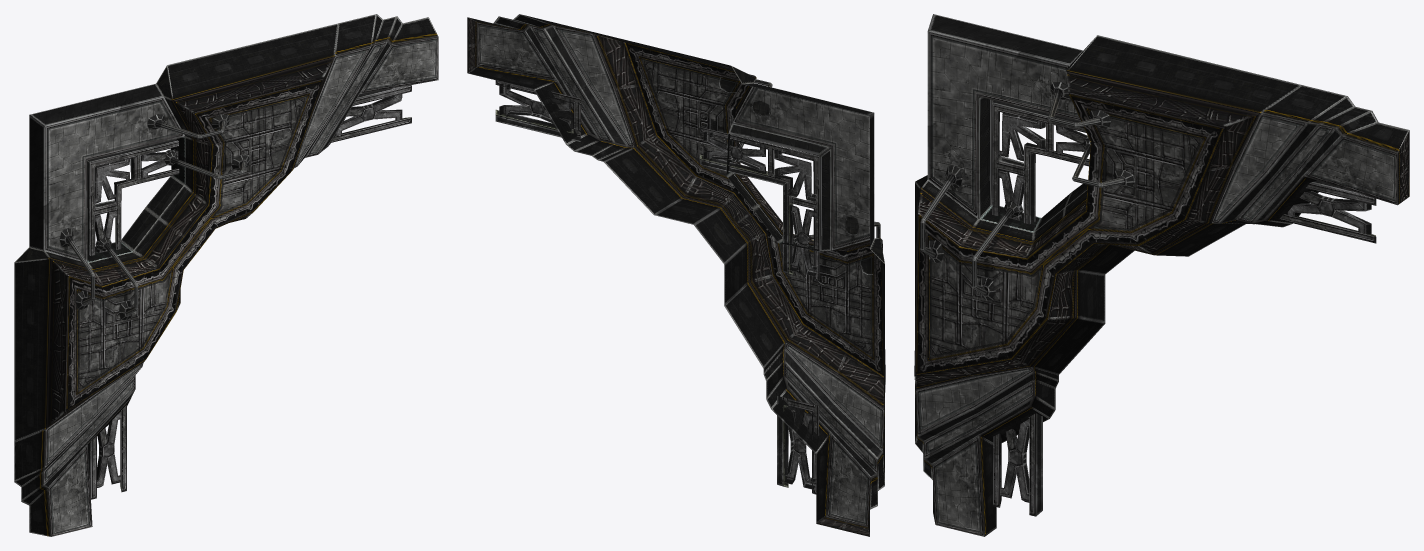
File: Corner_01.fbx
3 renders of one model, left to right at view 1: azimuth 30°, elevation 25°; view 2: azimuth 150°, elevation 25°; view 3: azimuth 330°, elevation 25°, orthographic. The views are drawn at different scales.
Visible parts, largest first — view 1: Corner1; view 2: Corner1; view 3: Corner1.
Part boxes in pixels (x1=…): Corner1: x1=14, y1=14, x2=438, y2=536; Corner1: x1=467, y1=14, x2=885, y2=536; Corner1: x1=914, y1=14, x2=1409, y2=536.
Bounding box in the file's own units: 34.46 × 34.46 × 5.36.
Materials: 1 (1 with a texture image).
